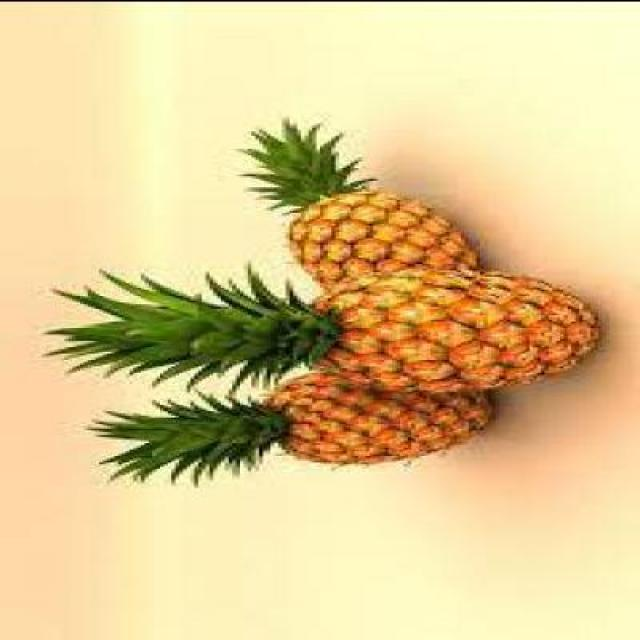Pineapple: (76, 270, 601, 398), (150, 371, 493, 469), (278, 181, 480, 296)
